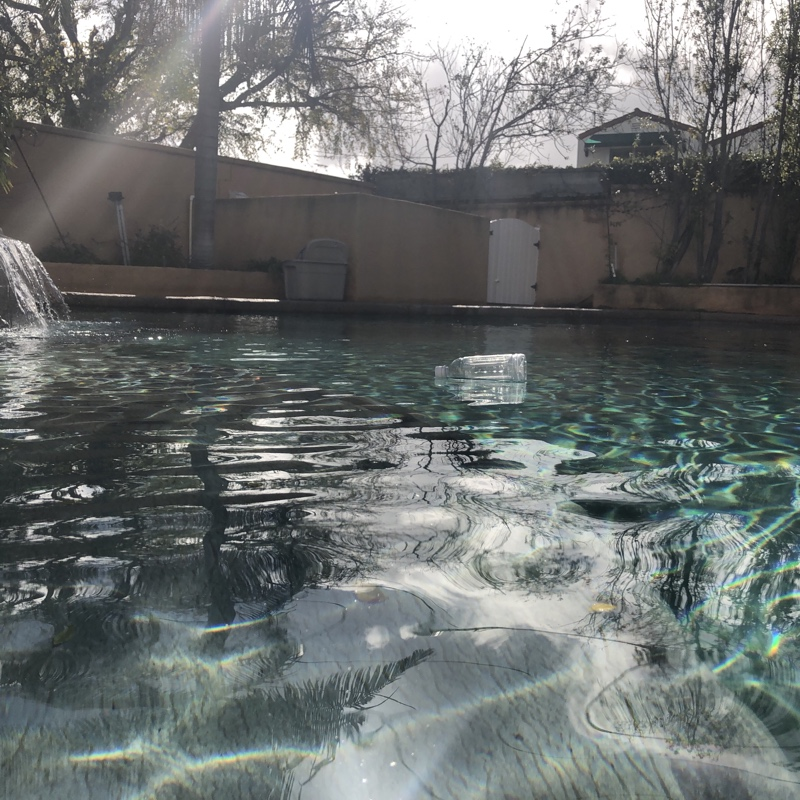Plastic Bottle: (429, 351, 531, 389)
